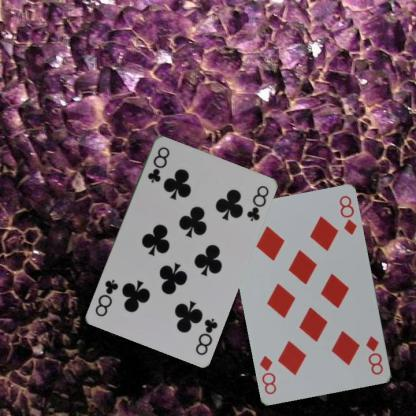8c: (192, 315, 219, 356), (144, 144, 171, 184)
8d: (363, 333, 385, 377)
